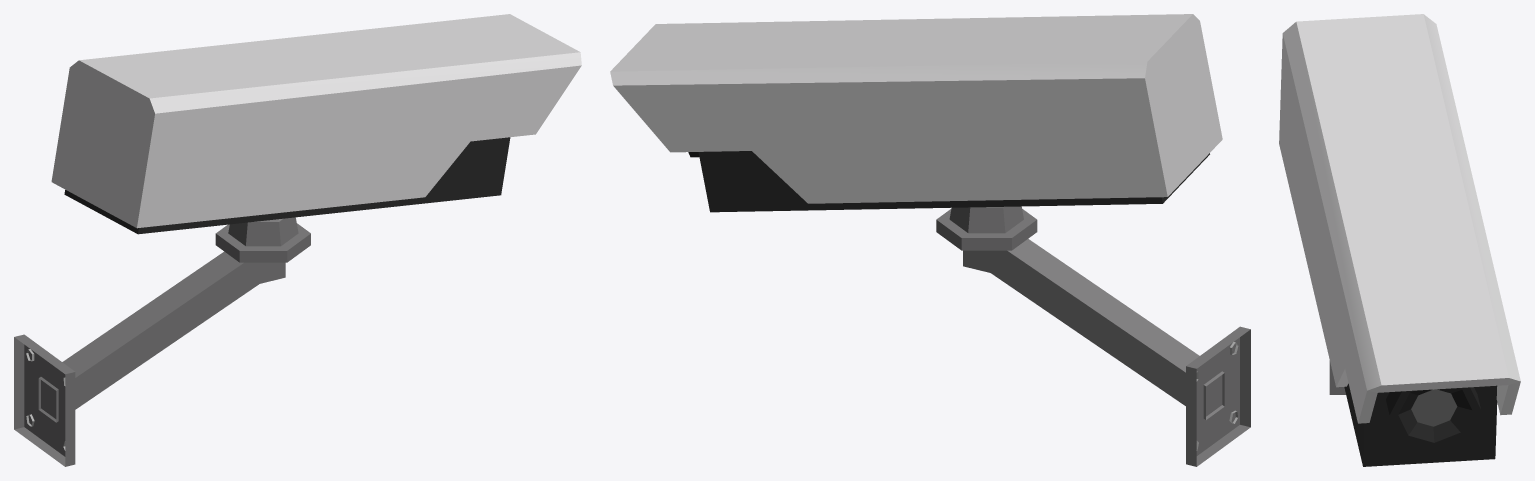
Rendered from SM_camera.gltf.
The picture shows the model from 3 angles, left to right: view 1: azimuth 30°, elevation 25°; view 2: azimuth 150°, elevation 25°; view 3: azimuth 270°, elevation 25°; orthographic projection. The views are drawn at different scales.
Parts seen in each view (by area): view 1: SM_camera; view 2: SM_camera; view 3: SM_camera.
Part boxes in pixels (<box>): SM_camera: <box>14,14,581,466</box>; SM_camera: <box>610,14,1250,466</box>; SM_camera: <box>1279,14,1520,466</box>.
Size of the model in its own units: 0.8734 by 0.5615 by 0.3033.
1 material, 1 textured.
